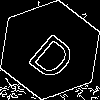D: (25, 25, 85, 83)
